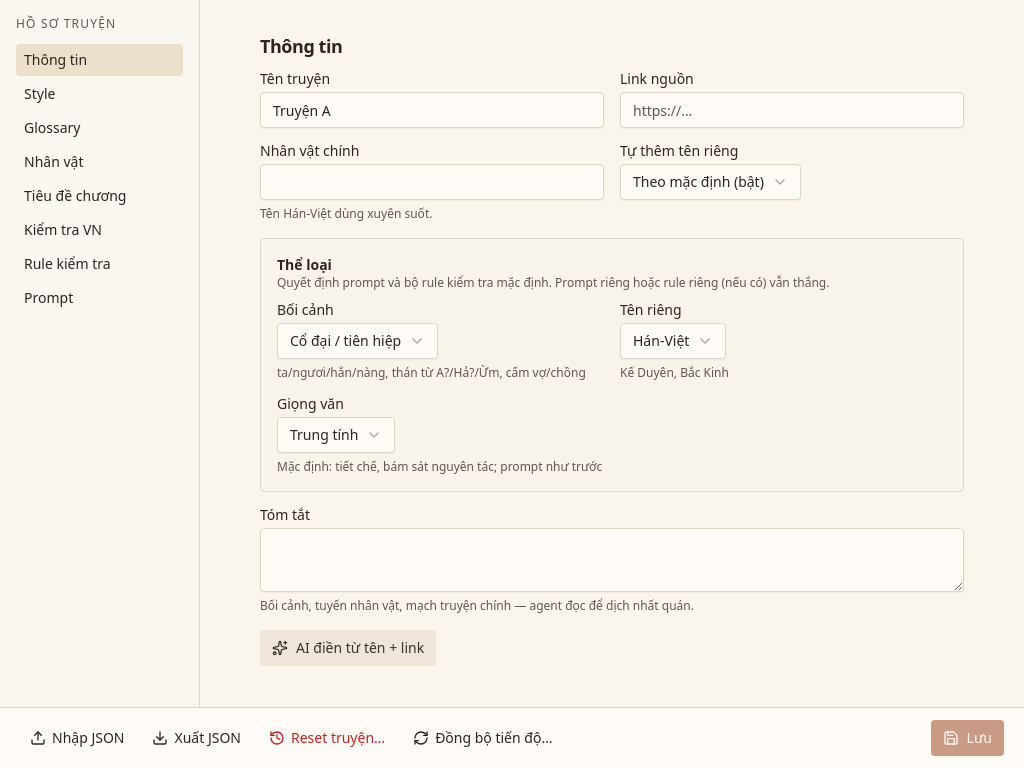
Test: StoryPage › Rà chương cũ: liệt kê đoạn thiếu cách dịch, xem trước rồi thay cụm sai
Click the tab "Glossary" at (100, 128), box x1=16 y1=112 x2=183 y2=144
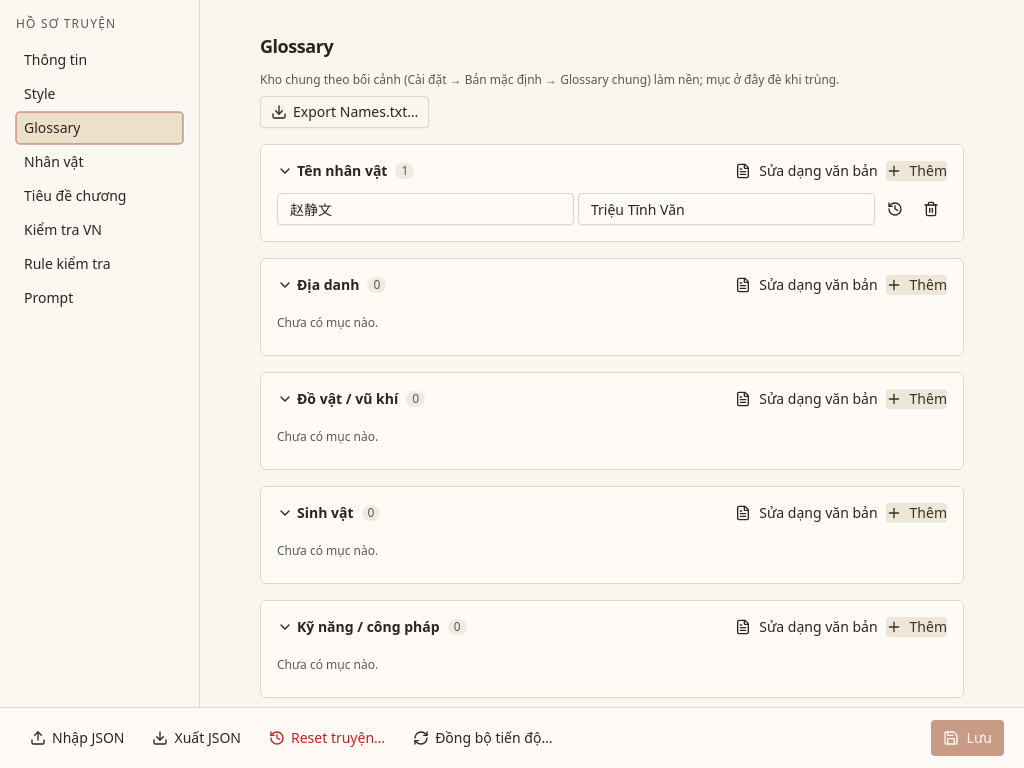
Click the button named "Rà chương cũ 1" at (895, 209), box x1=879 y1=193 x2=911 y2=225
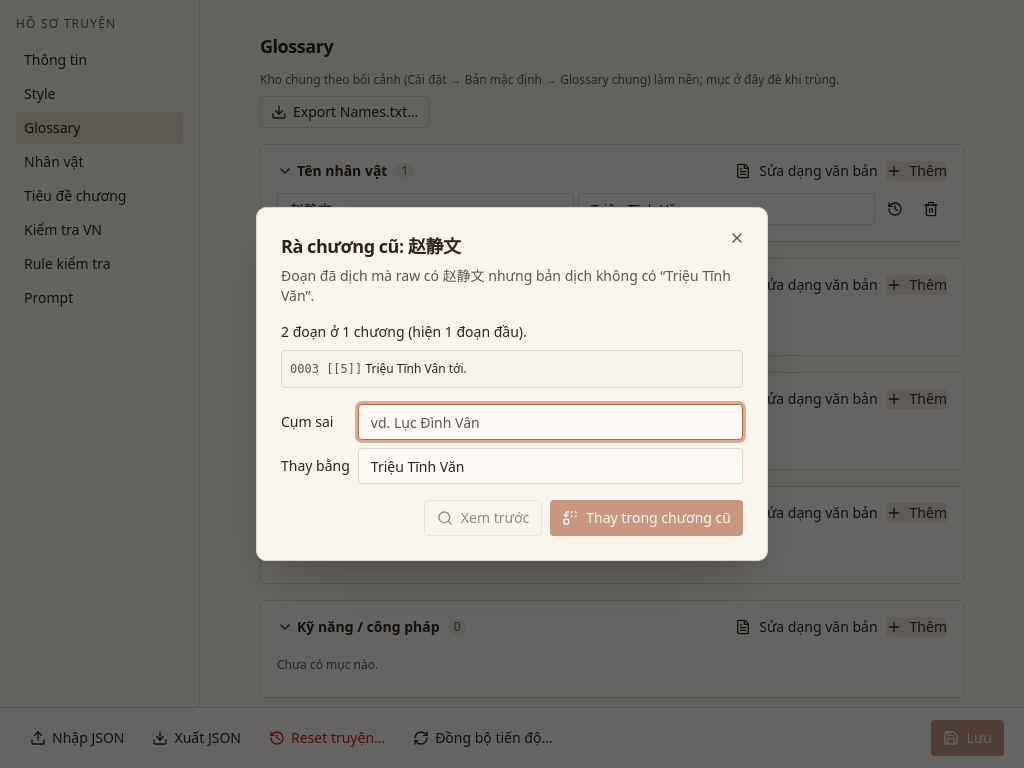
expect the message named "Kết quả rà" shows "2 đoạn ở 1 chương": met, box x1=281 y1=322 x2=527 y2=341
expect the list item "Triệu Tĩnh Vân tới." is shown: met, box x1=365 y1=360 x2=467 y2=377
expect the button "Thay trong chương cũ" is disabled: met, box x1=550 y1=500 x2=743 y2=536
Type "Triệu Tĩnh Vân" into the field labelled "Cụm sai" at (550, 422), box x1=358 y1=404 x2=743 y2=440
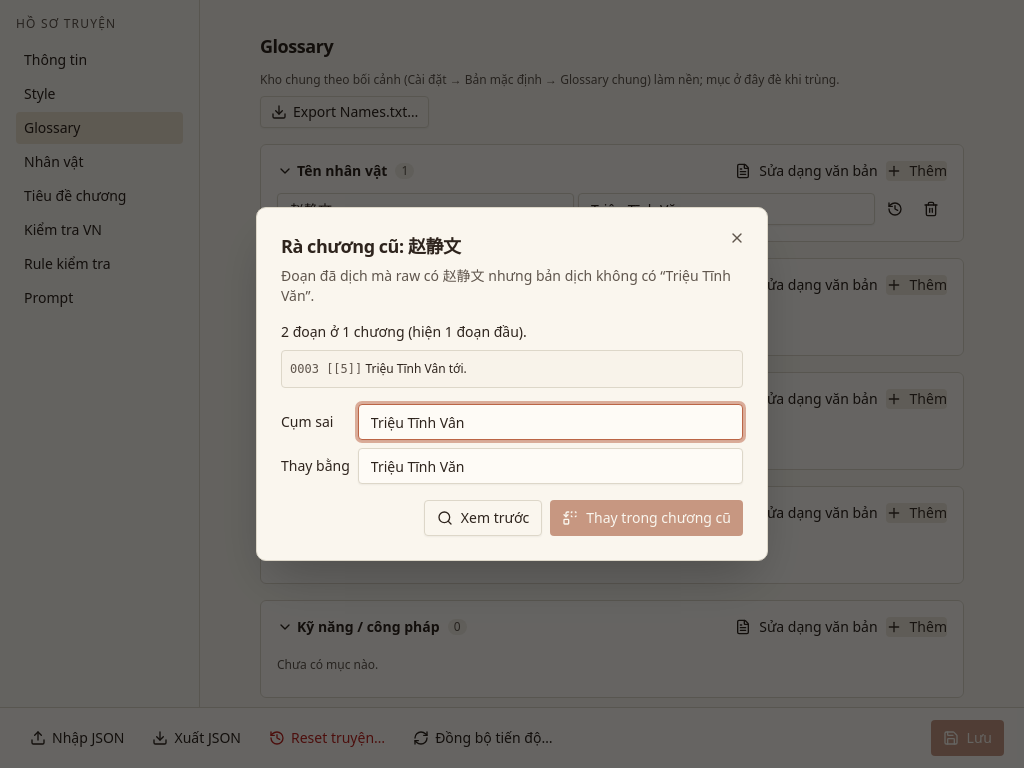
Click the button "Xem trước" at (483, 518), box x1=424 y1=500 x2=542 y2=536
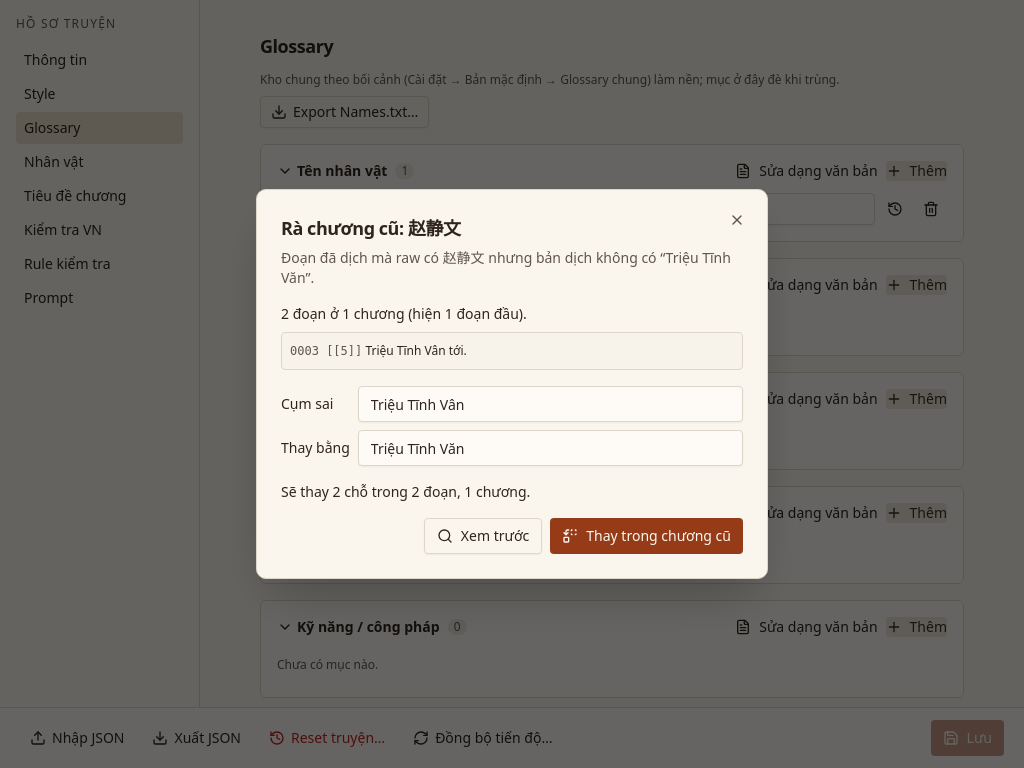
expect the text "Sẽ thay 2 chỗ trong 2 đoạn, 1 chương." is shown: met, box x1=281 y1=482 x2=530 y2=501
Click the button "Thay trong chương cũ" at (647, 536), box x1=550 y1=518 x2=743 y2=554
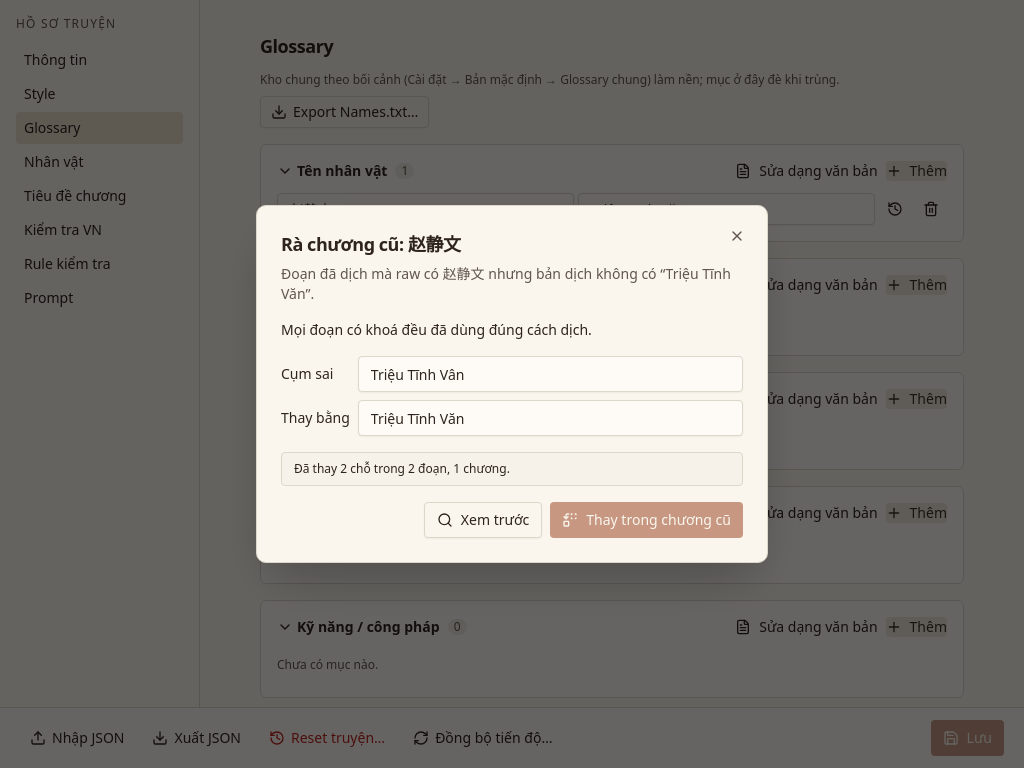
expect the dialog "Rà chương cũ: 赵静文" is shown: met, box x1=256 y1=205 x2=768 y2=563
expect the text "Đã thay 2 chỗ trong 2 đoạn, 1 chương." is shown: met, box x1=281 y1=452 x2=743 y2=486
